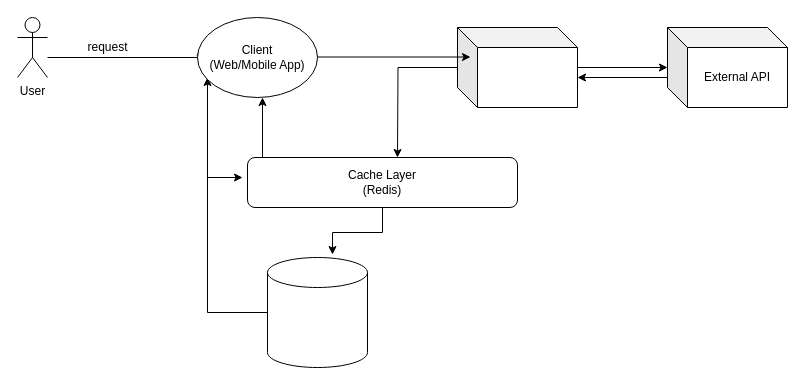
Image size: 805x385. Some labels were removed from this diagram. The centre of each missing label's shape, as x and y in pixels:
"API" belongs at (517,67).
"Database (mongoDB)" belongs at (317,312).
